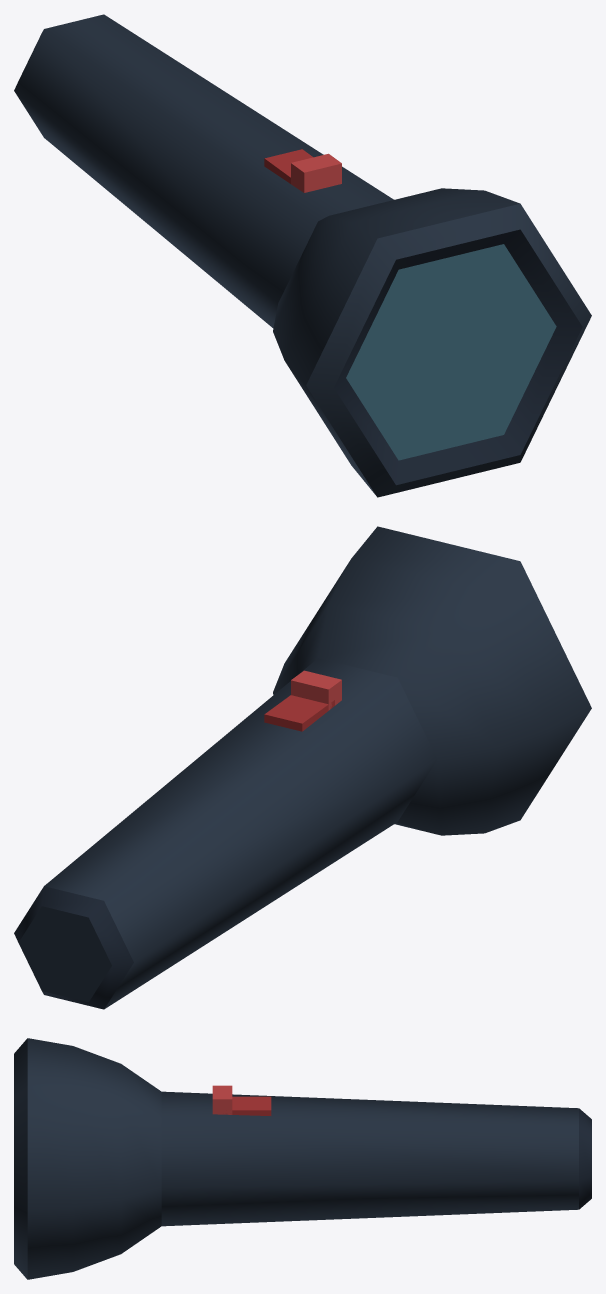
Rendered from Flashlight.fbx.
3 views of the same model, one above another, from view 1: azimuth 30°, elevation 25°; view 2: azimuth 150°, elevation 25°; view 3: azimuth 270°, elevation 25° (orthographic). The views are drawn at different scales.
Visible parts, largest first — view 1: Flashlight_mesh; view 2: Flashlight_mesh; view 3: Flashlight_mesh.
Boxes of the visible parts, left/top/right/bottom form: Flashlight_mesh: left=14, top=14, right=591, bottom=497; Flashlight_mesh: left=14, top=526, right=591, bottom=1009; Flashlight_mesh: left=14, top=1038, right=591, bottom=1279.
Size of the model in its own units: 7.54 by 6.53 by 17.94.
